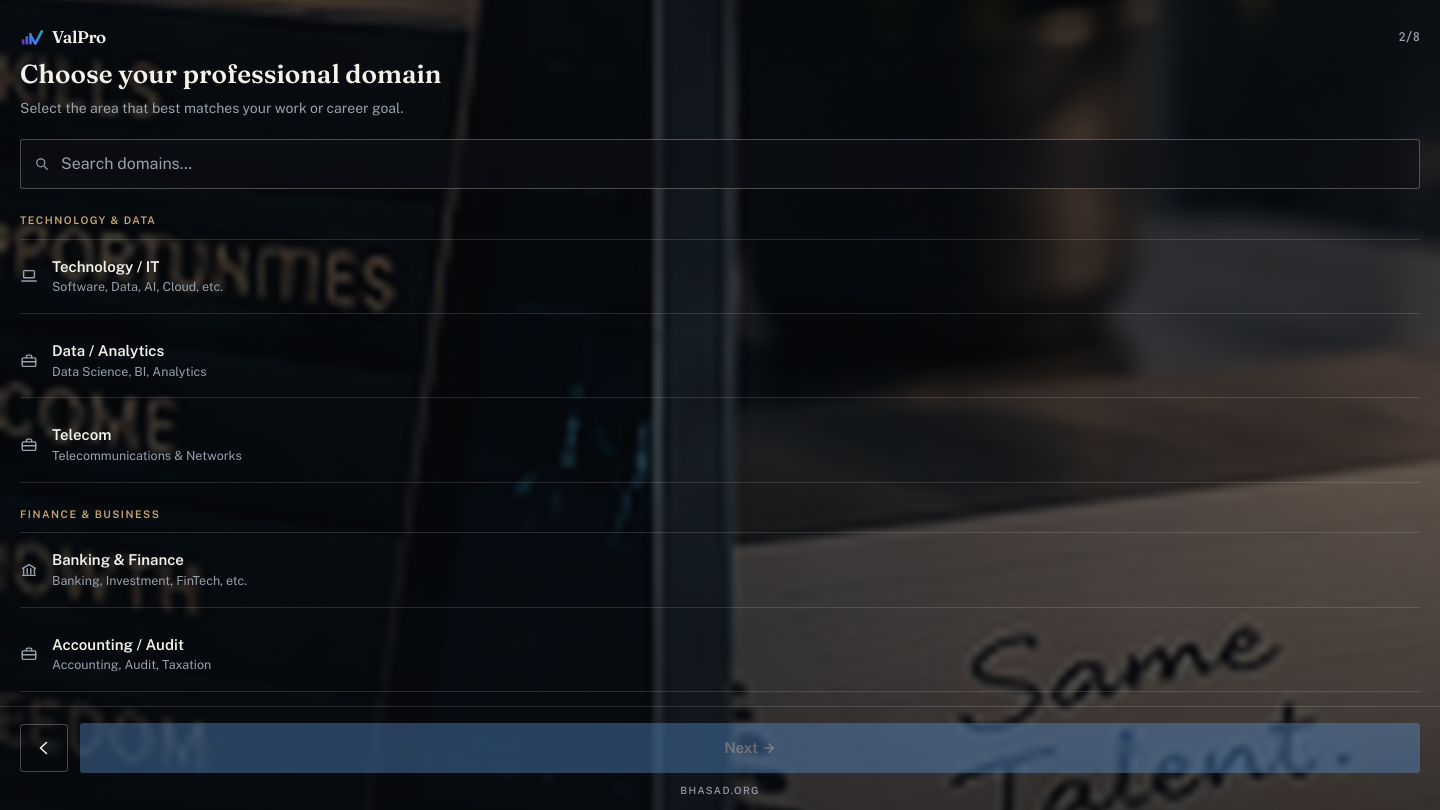
DomainSelection — broad taxonomy stays usable, not overwhelming › shows a helpful message, not a blank screen, when nothing matches
Type "zzzznotadomain" into the search field labelled "Search domains…". click: (720,164)
box: 20,139 -> 1420,189
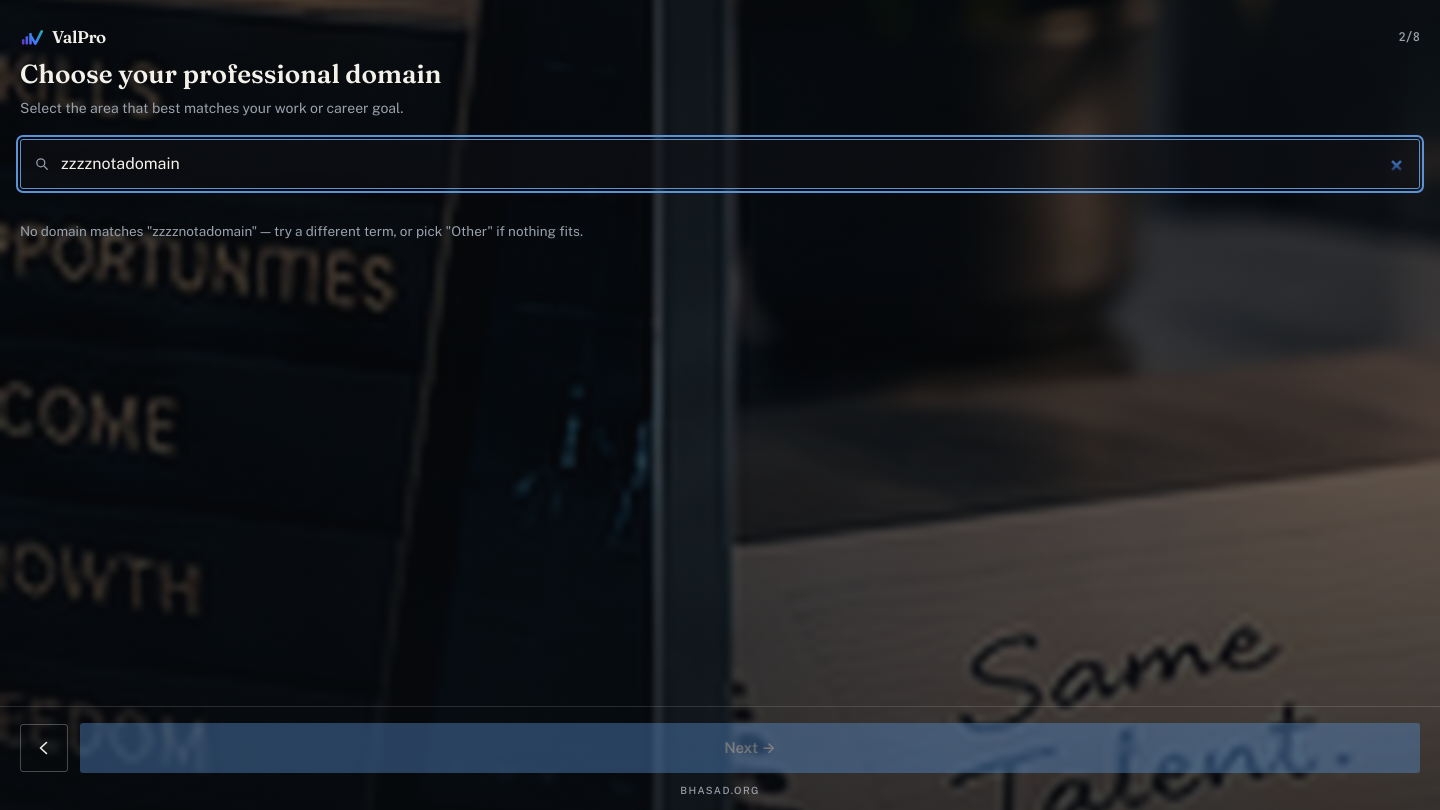
Expected: the text "No domain matches" is shown, 20,223 -> 152,239
